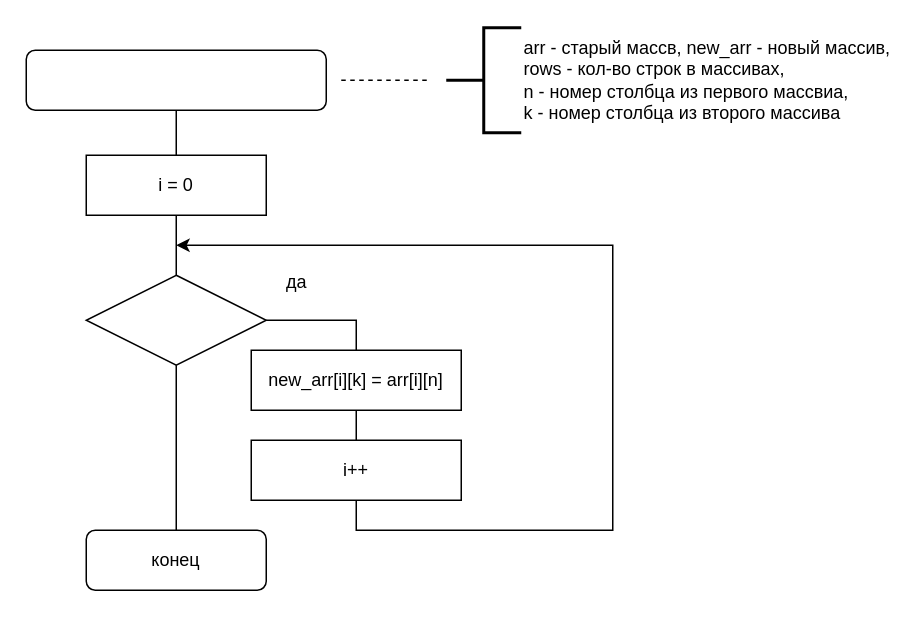
Image size: 917x617. Some labels were removed from this diagram. Here are the shapes that lost their labels. From the top down, the box of each, then its label:
(25, 49, 326, 110): copy(arr, new_arr, rows, n , k)
(85, 274, 266, 365): i < rows
